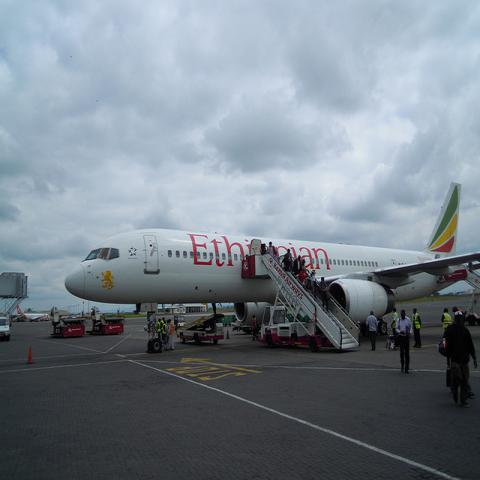car: (0, 316, 10, 340)
truck: (176, 313, 225, 345), (50, 316, 86, 338), (0, 316, 12, 341)
